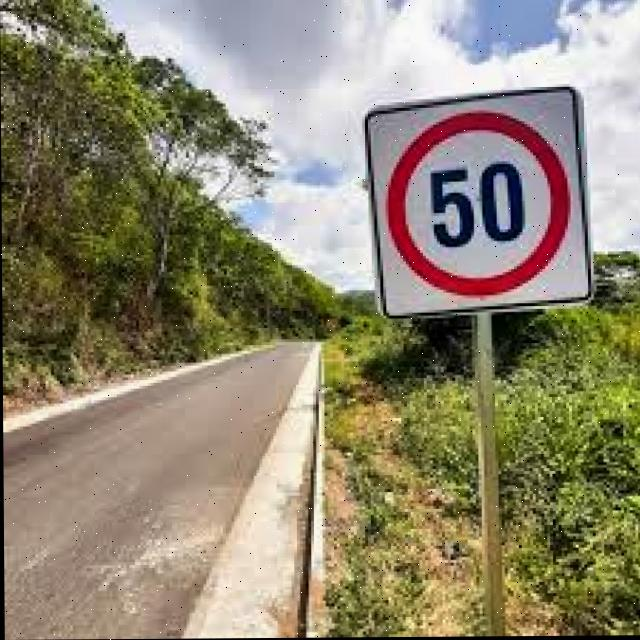Speed limit 50: (383, 109, 573, 299)
